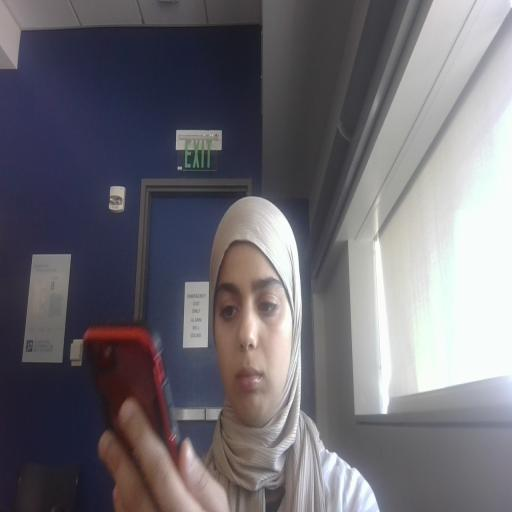phone: (77, 315, 238, 512)
